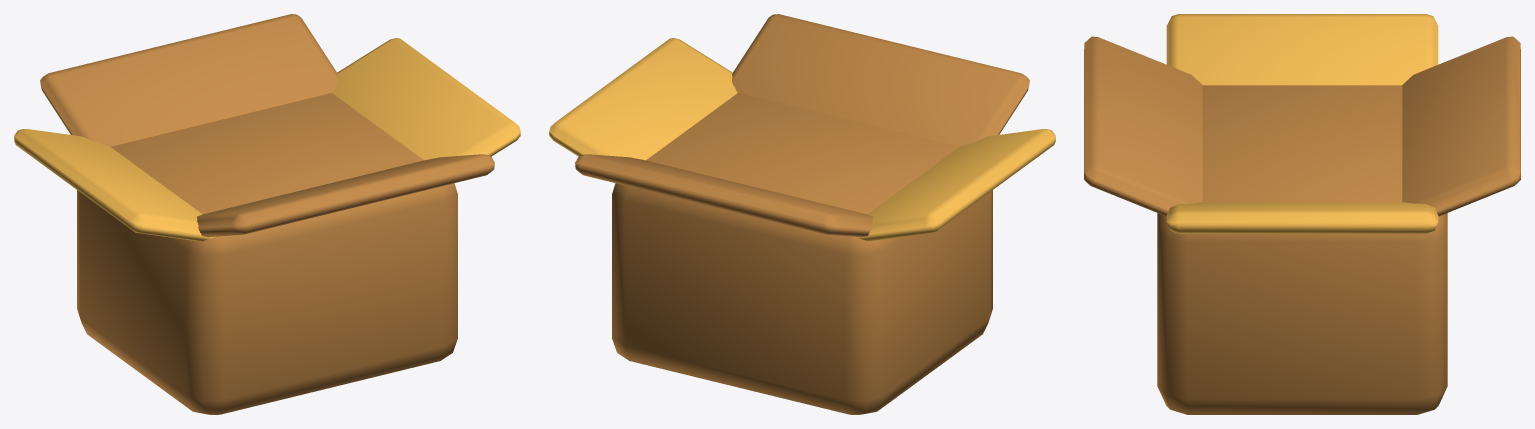
File: CardboardBox.glb
3 views of the same model, side by side, from view 1: azimuth 30°, elevation 25°; view 2: azimuth 150°, elevation 25°; view 3: azimuth 270°, elevation 25° (orthographic). The views are drawn at different scales.
Parts seen in each view (by area): view 1: CardboardBox; view 2: CardboardBox; view 3: CardboardBox.
Boxes of the visible parts, x1=… form: CardboardBox: x1=14, y1=14, x2=520, y2=414; CardboardBox: x1=549, y1=14, x2=1055, y2=414; CardboardBox: x1=1084, y1=14, x2=1520, y2=414.
Bounding box in the file's own units: 1.04 × 0.5982 × 0.9333.
